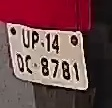1: (72, 61, 80, 83), (45, 31, 51, 53)
4: (52, 34, 61, 54)
7: (50, 57, 60, 79)
8: (37, 55, 51, 78), (61, 59, 72, 83)
C: (25, 53, 34, 76)
D: (15, 52, 25, 73)
P: (31, 30, 39, 51)
U: (21, 29, 30, 49)
